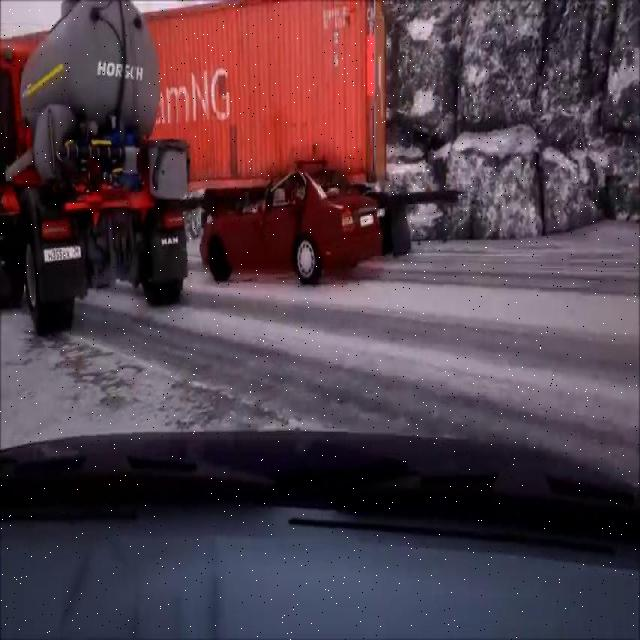severe: (0, 0, 395, 293)
